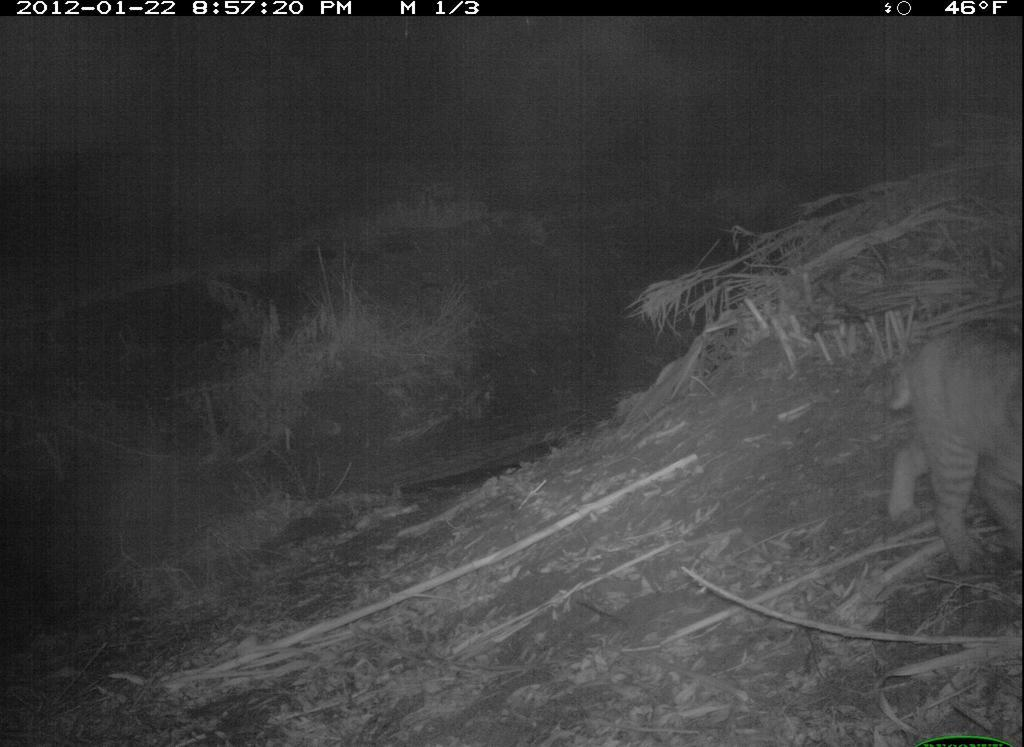bobcat: (867, 305, 1018, 569)
